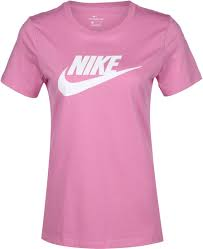nike: (49, 56, 149, 113)
